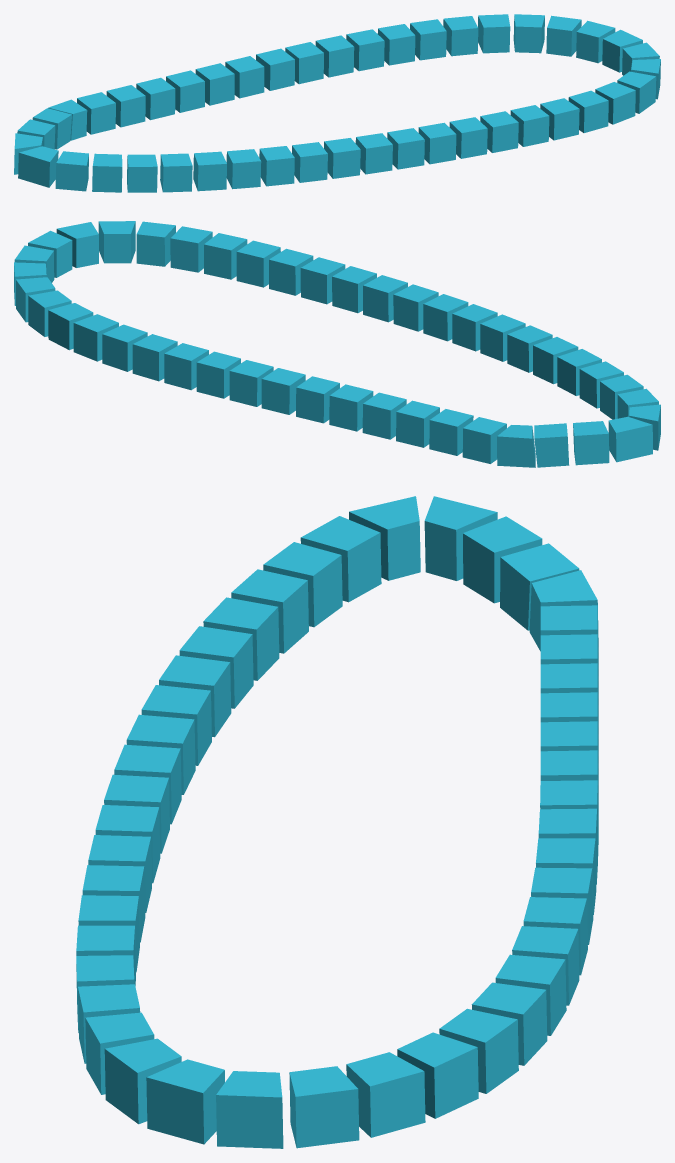
The model's file is track_测试单个.glb.
The picture shows the model from 3 angles, top to bottom: view 1: azimuth 30°, elevation 25°; view 2: azimuth 150°, elevation 25°; view 3: azimuth 270°, elevation 25°; orthographic projection. The views are drawn at different scales.
Visible parts, largest first — view 1: Cube.040, Cube.033, Cube.032, Cube.034, Cube.031, Cube.030, Cube.035, Cube.029, Cube.028, Cube.027, Cube.026, Cube.012 (+32 smaller); view 2: Cube.041, Cube.007, Cube.021, Cube, Cube.001, Cube.022, Cube.004, Cube.002, Cube.005, Cube.042, Cube.006, Cube.009 (+32 smaller); view 3: Cube.020, Cube.017, Cube.018, Cube.019, Cube.016, Cube.021, Cube.015, Cube.039, Cube.042, Cube.040, Cube.041, Cube.038 (+32 smaller).
Boxes of the visible parts, <box> form: Cube.040: <box>18,146,58,187</box>; Cube.033: <box>259,146,294,186</box>; Cube.032: <box>292,142,327,182</box>; Cube.034: <box>226,149,261,189</box>; Cube.031: <box>324,138,360,178</box>; Cube.030: <box>355,133,392,174</box>; Cube.035: <box>193,151,226,191</box>; Cube.029: <box>387,128,424,169</box>; Cube.028: <box>418,122,456,164</box>; Cube.027: <box>449,117,487,158</box>; Cube.026: <box>480,111,518,152</box>; Cube.012: <box>410,19,446,60</box>; Cube.041: <box>608,416,652,462</box>; Cube.007: <box>261,368,305,414</box>; Cube.021: <box>98,221,135,263</box>; Cube: <box>497,425,535,467</box>; Cube.001: <box>462,417,506,463</box>; Cube.022: <box>136,221,175,266</box>; Cube.004: <box>362,392,406,439</box>; Cube.002: <box>429,409,473,455</box>; Cube.005: <box>329,384,373,431</box>; Cube.042: <box>573,421,609,465</box>; Cube.006: <box>296,376,339,423</box>; Cube.009: <box>196,351,240,398</box>; Cube.020: <box>146,1059,224,1144</box>; Cube.017: <box>346,1052,425,1137</box>; Cube.018: <box>289,1066,359,1148</box>; Cube.019: <box>216,1071,283,1148</box>; Cube.016: <box>397,1032,478,1118</box>; Cube.021: <box>104,1038,181,1124</box>; Cube.015: <box>439,1008,518,1093</box>; Cube.039: <box>300,516,381,602</box>; Cube.042: <box>463,516,542,603</box>; Cube.040: <box>349,496,420,580</box>; Cube.041: <box>424,496,497,580</box>; Cube.038: <box>263,542,342,627</box>.
Bounding box in the file's own units: 8.85 × 0.5338 × 3.37.
